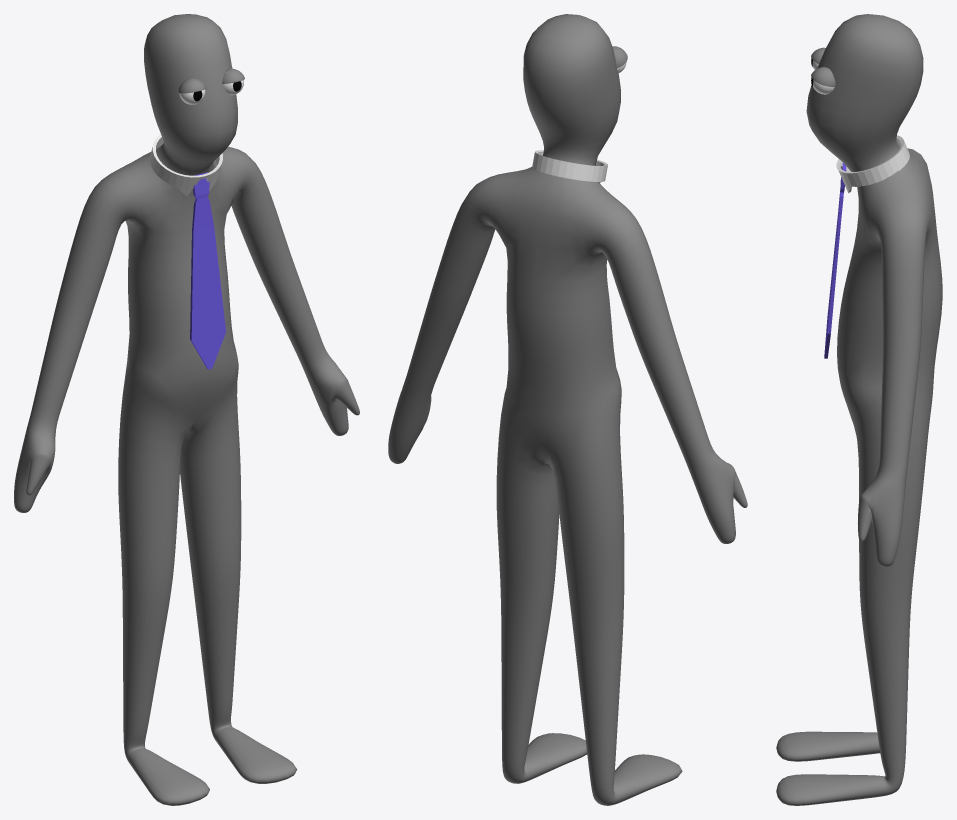
Rendered from guy.fbx.
The picture shows the model from 3 angles, left to right: view 1: azimuth 30°, elevation 25°; view 2: azimuth 150°, elevation 25°; view 3: azimuth 270°, elevation 25°; orthographic projection. The views are drawn at different scales.
Parts seen in each view (by area): view 1: Plane.002, Cylinder; view 2: Plane.002, Cylinder; view 3: Plane.002, Cylinder.
Part boxes in pixels (x1,y1,x2,y2): Plane.002: (14, 14, 359, 805); Cylinder: (150, 134, 225, 369); Plane.002: (388, 14, 747, 805); Cylinder: (532, 150, 607, 182); Plane.002: (776, 14, 942, 805); Cylinder: (824, 135, 909, 358).
Size of the model in its own units: 242 by 516 by 103.
